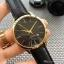watch: (10, 11, 51, 51)
